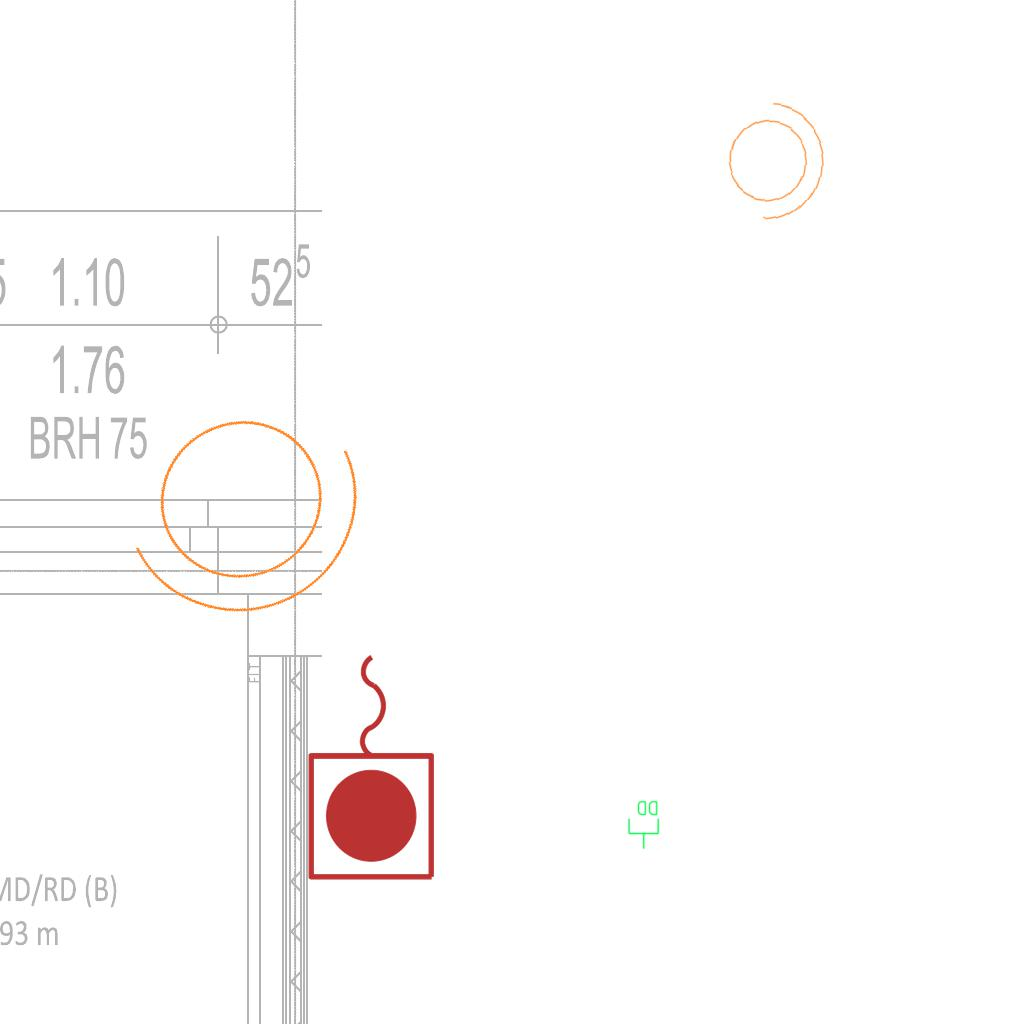Datenanschluss_zweifach: (627, 799, 661, 850)
Scheinwerfer_fuer_Alarmbeleuchtung: (83, 347, 419, 664), (711, 87, 835, 229)
Zugtaster: (301, 644, 445, 888)
